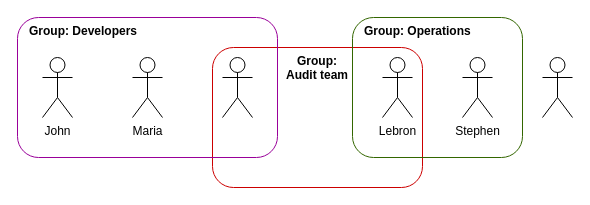
This 590x205 diagram has some shape labels left out. The centre of each missing label's shape, as x and y in pixels:
Kevin: [557,87]
Robert: [237,87]
